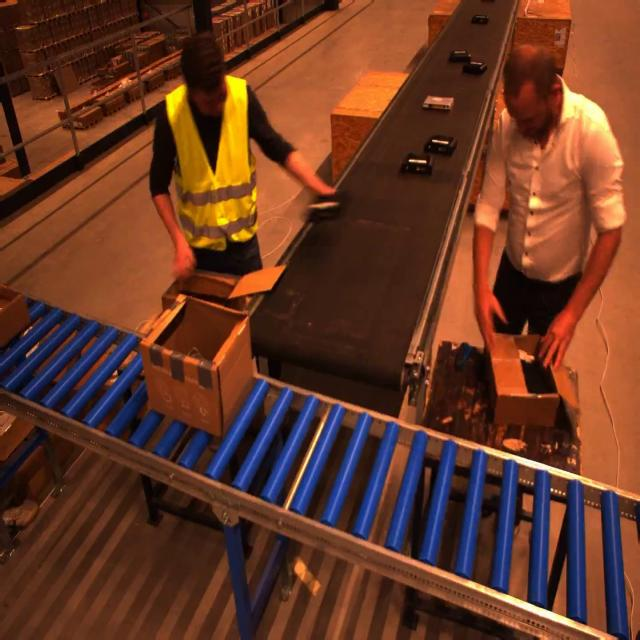box: (140, 267, 283, 439), (486, 332, 576, 427)
product: (303, 193, 345, 223), (399, 153, 433, 176), (423, 134, 458, 156), (422, 94, 455, 111), (462, 60, 488, 75), (448, 50, 472, 63), (470, 14, 489, 24)
